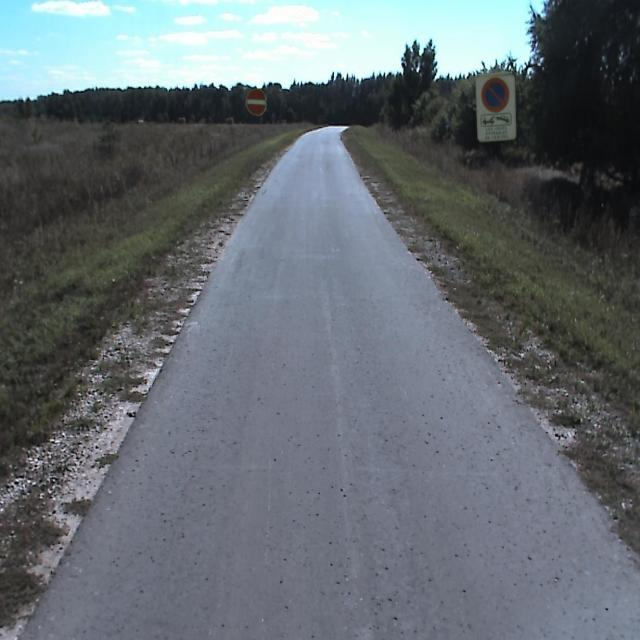road: (21, 127, 639, 639)
